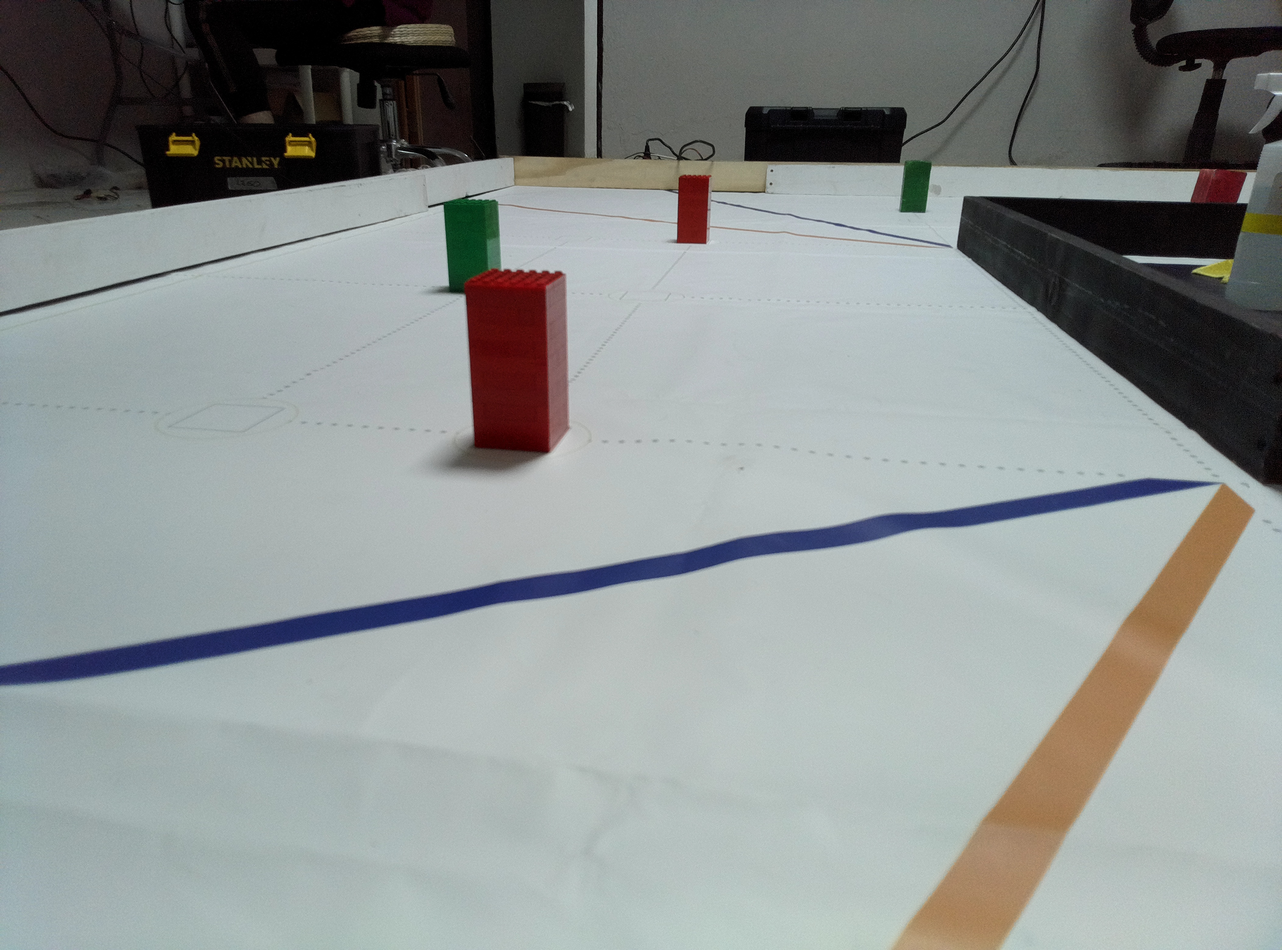greenbox: (442, 199, 504, 295), (898, 159, 934, 214)
redbox: (461, 267, 573, 456), (676, 174, 714, 245), (1189, 167, 1248, 205)
